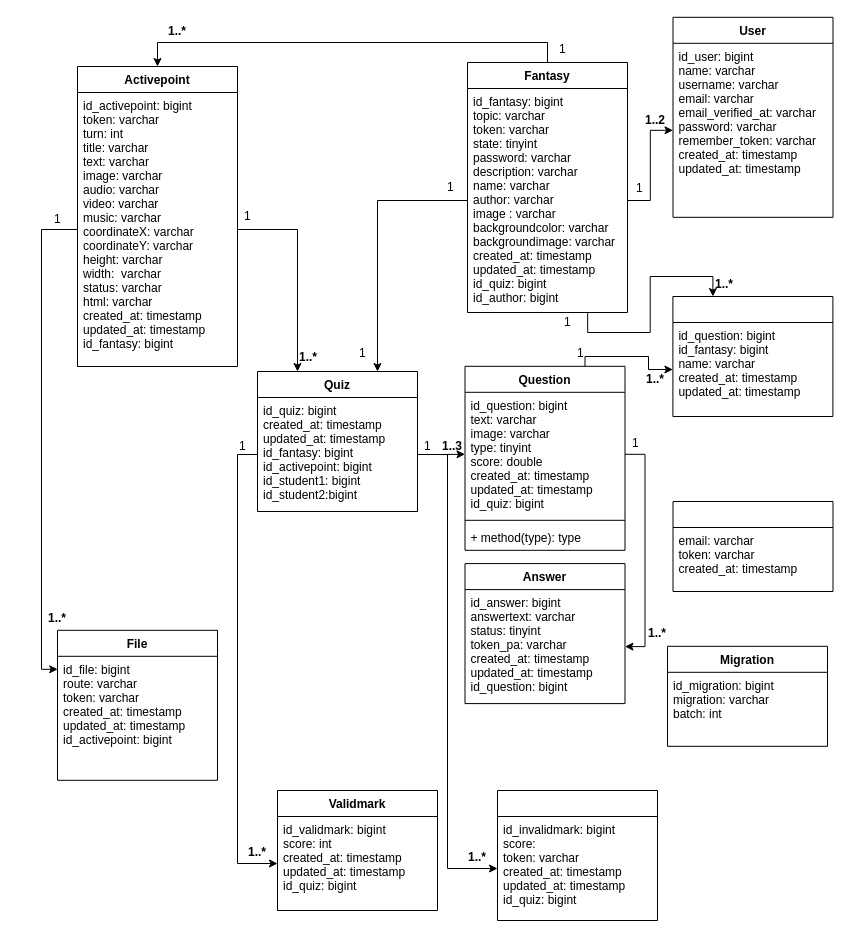
Image size: 850x941. Some labels were removed from this diagram. The box of each missing label's shape, as (x1, y1, x2, y2) in pixels:
Invalidkmark: (496, 790, 658, 920)
Keyword: (672, 296, 833, 416)
Password_reset: (672, 500, 833, 592)
